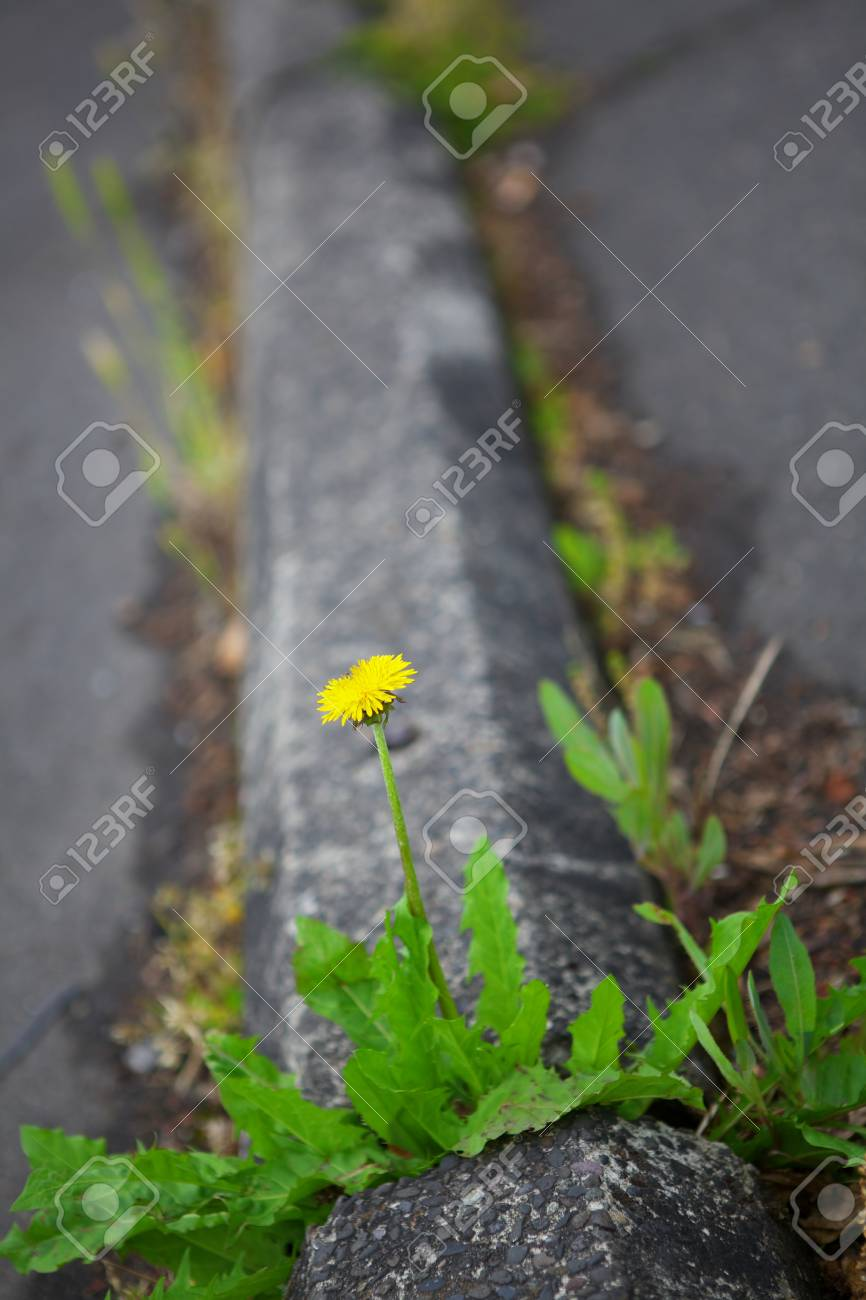dandelion: (319, 666, 419, 726)
